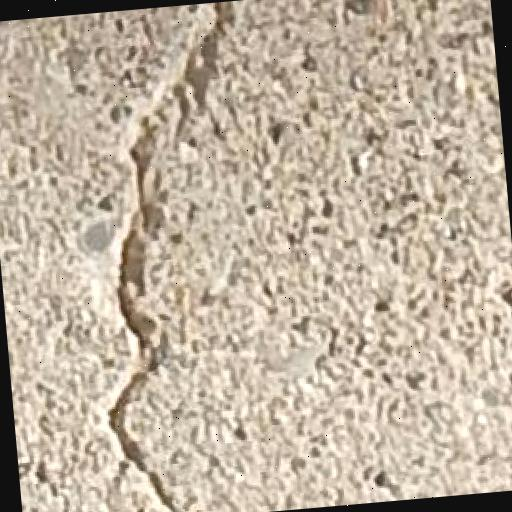spalling: (73, 16, 244, 512)
